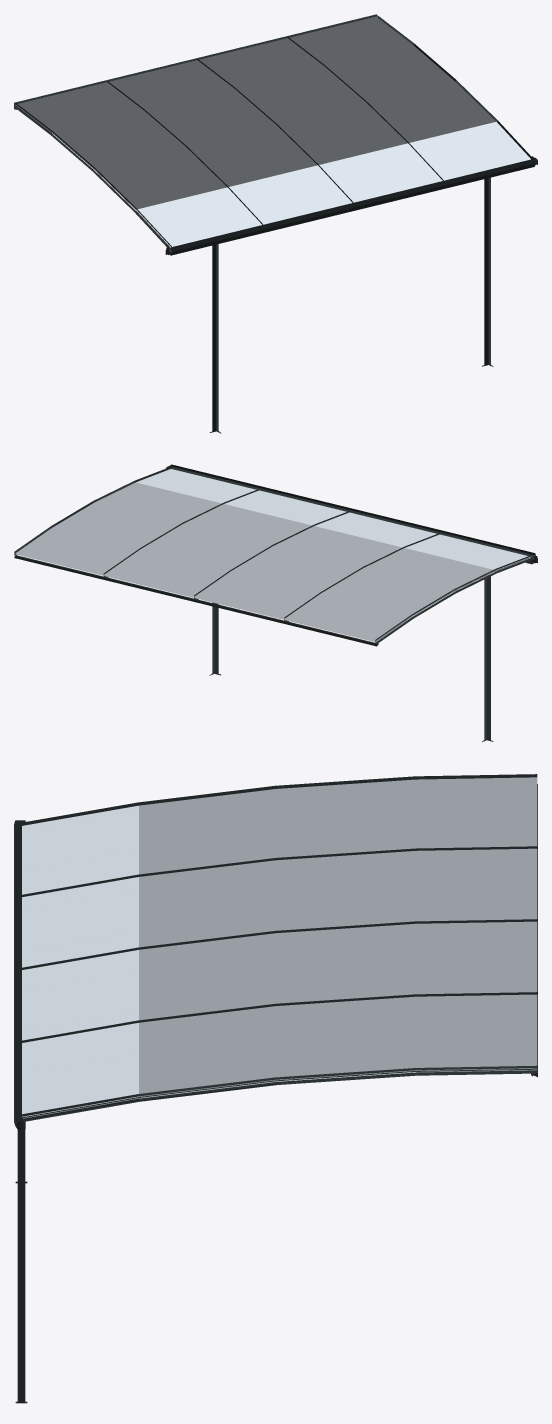
The picture shows the model from 3 angles, top to bottom: view 1: azimuth 30°, elevation 25°; view 2: azimuth 150°, elevation 25°; view 3: azimuth 270°, elevation 25°; orthographic projection. The views are drawn at different scales.
Visible parts, largest first — view 1: priximbattable_net_pergola_aluminium_17441_pergola_aluminium; view 2: priximbattable_net_pergola_aluminium_17441_pergola_aluminium; view 3: priximbattable_net_pergola_aluminium_17441_pergola_aluminium.
Part boxes in pixels (<box>): priximbattable_net_pergola_aluminium_17441_pergola_aluminium: <box>14,14,537,433</box>; priximbattable_net_pergola_aluminium_17441_pergola_aluminium: <box>14,464,537,741</box>; priximbattable_net_pergola_aluminium_17441_pergola_aluminium: <box>14,774,537,1403</box>.
Size of the model in its own units: 410 by 240 by 302.
Materials: 1 (1 with a texture image).
